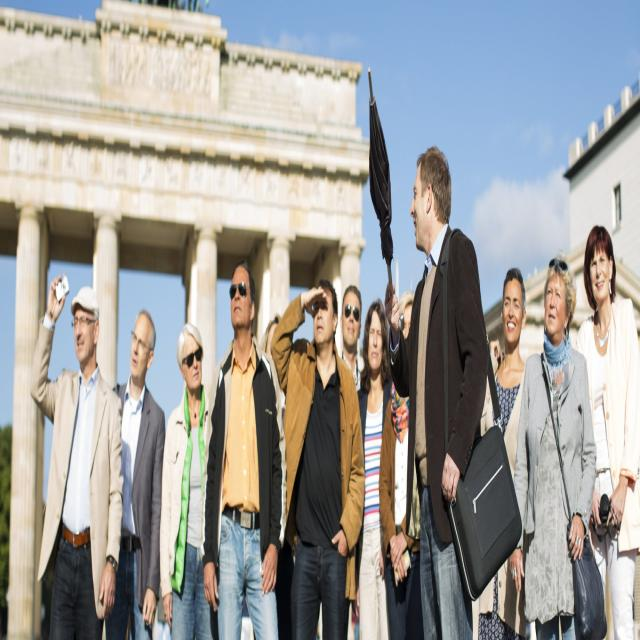body: (384, 143, 522, 639), (260, 282, 369, 640), (27, 270, 124, 639), (270, 276, 367, 640), (509, 252, 598, 640), (202, 256, 287, 640), (573, 224, 640, 640), (104, 307, 166, 640), (476, 262, 530, 640), (157, 317, 217, 640), (377, 289, 424, 640), (351, 296, 394, 640), (259, 312, 282, 362)
